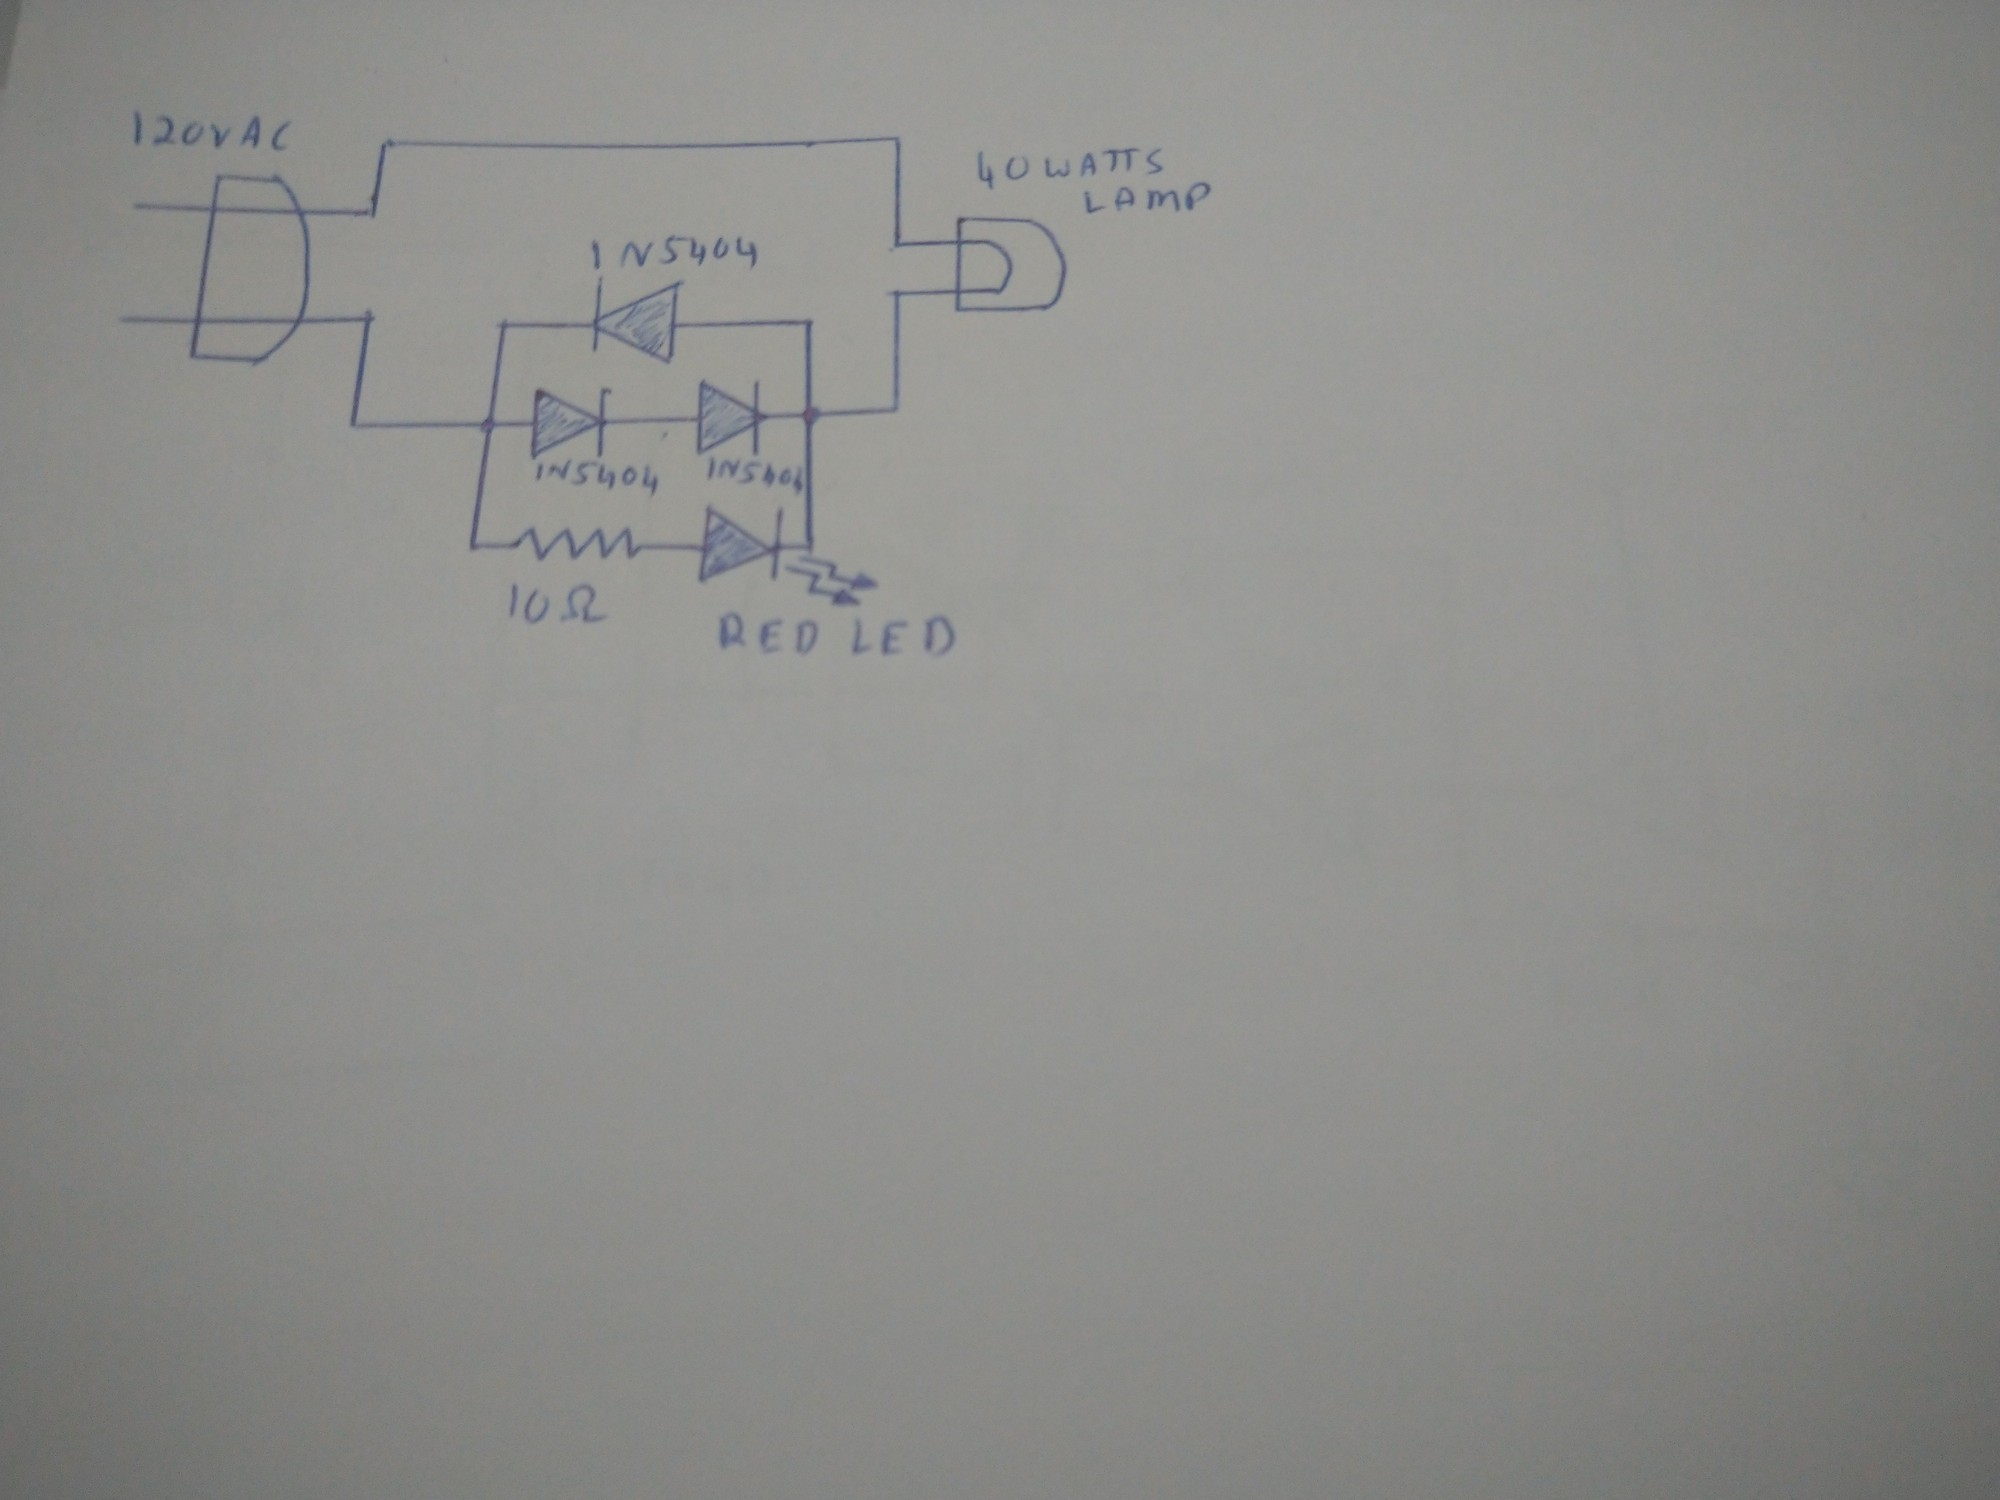diode: (587, 274, 688, 367), (524, 384, 613, 459), (693, 375, 764, 459)
diode.light_emitting: (698, 503, 879, 611)
junction: (468, 410, 509, 443), (794, 399, 831, 433), (357, 199, 386, 227), (880, 397, 910, 422), (458, 534, 488, 559), (339, 410, 367, 435), (882, 124, 910, 150), (794, 307, 820, 332), (885, 233, 912, 258), (487, 314, 517, 336), (354, 307, 384, 328), (883, 280, 909, 303), (375, 136, 397, 156)
lamp: (950, 213, 1076, 320)
resistor: (507, 522, 644, 567)
socket: (184, 169, 317, 370)
terminal: (121, 199, 146, 216), (110, 312, 135, 329)
text: (710, 607, 959, 666), (124, 102, 302, 162), (967, 143, 1169, 187), (583, 230, 764, 277), (528, 455, 663, 501), (501, 578, 616, 630), (1077, 180, 1213, 222), (702, 454, 805, 498)
